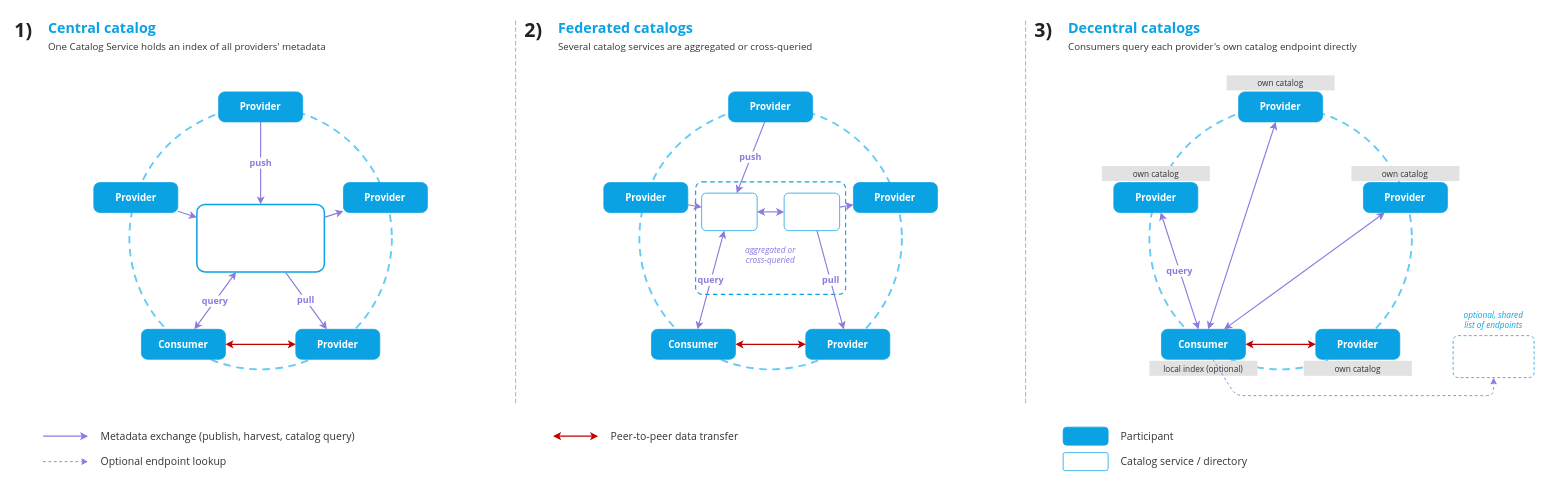
Some shapes in this 1556 by 485 pixel diagram are drawn without their labels. The centre of each missing label's shape, as x and y in pixels:
"Catalog domain A" goes at (x=729, y=211).
"Catalog domain B" goes at (x=811, y=211).
"Catalog Service central index DSGA, operator or intermediary" goes at (x=260, y=237).
"Endpoint directory" goes at (x=1493, y=356).
